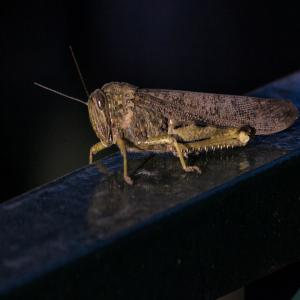locust: (66, 49, 300, 169)
